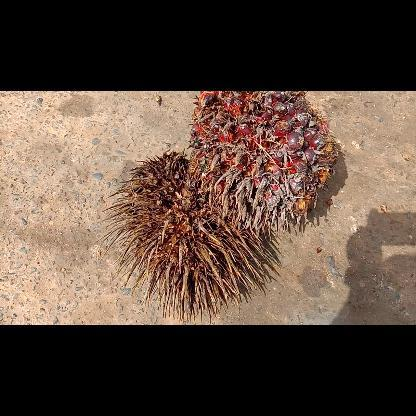Janjang kosong: (96, 148, 272, 324)
TBS masak: (188, 91, 336, 239)
